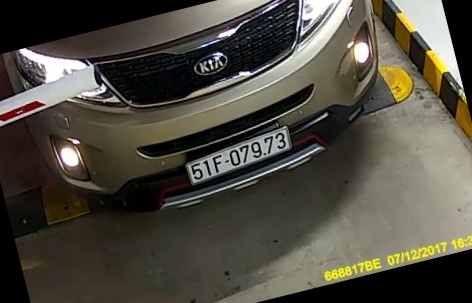plate: (178, 128, 312, 186)
